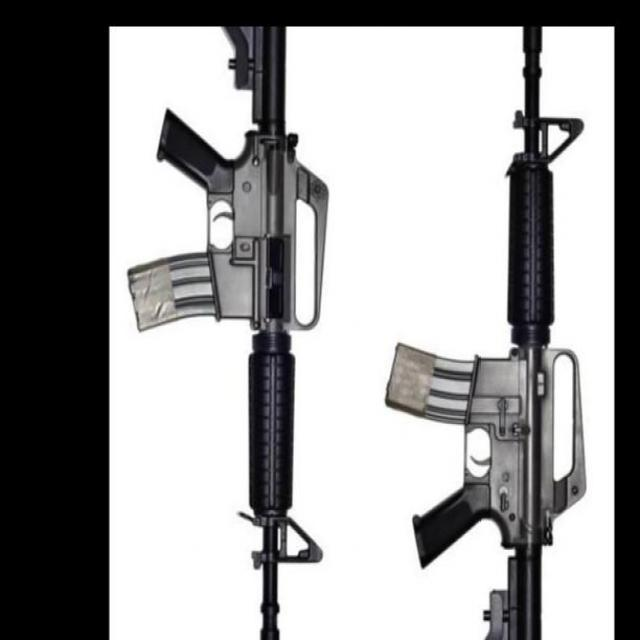weapon: (126, 25, 330, 640), (384, 25, 586, 640)
